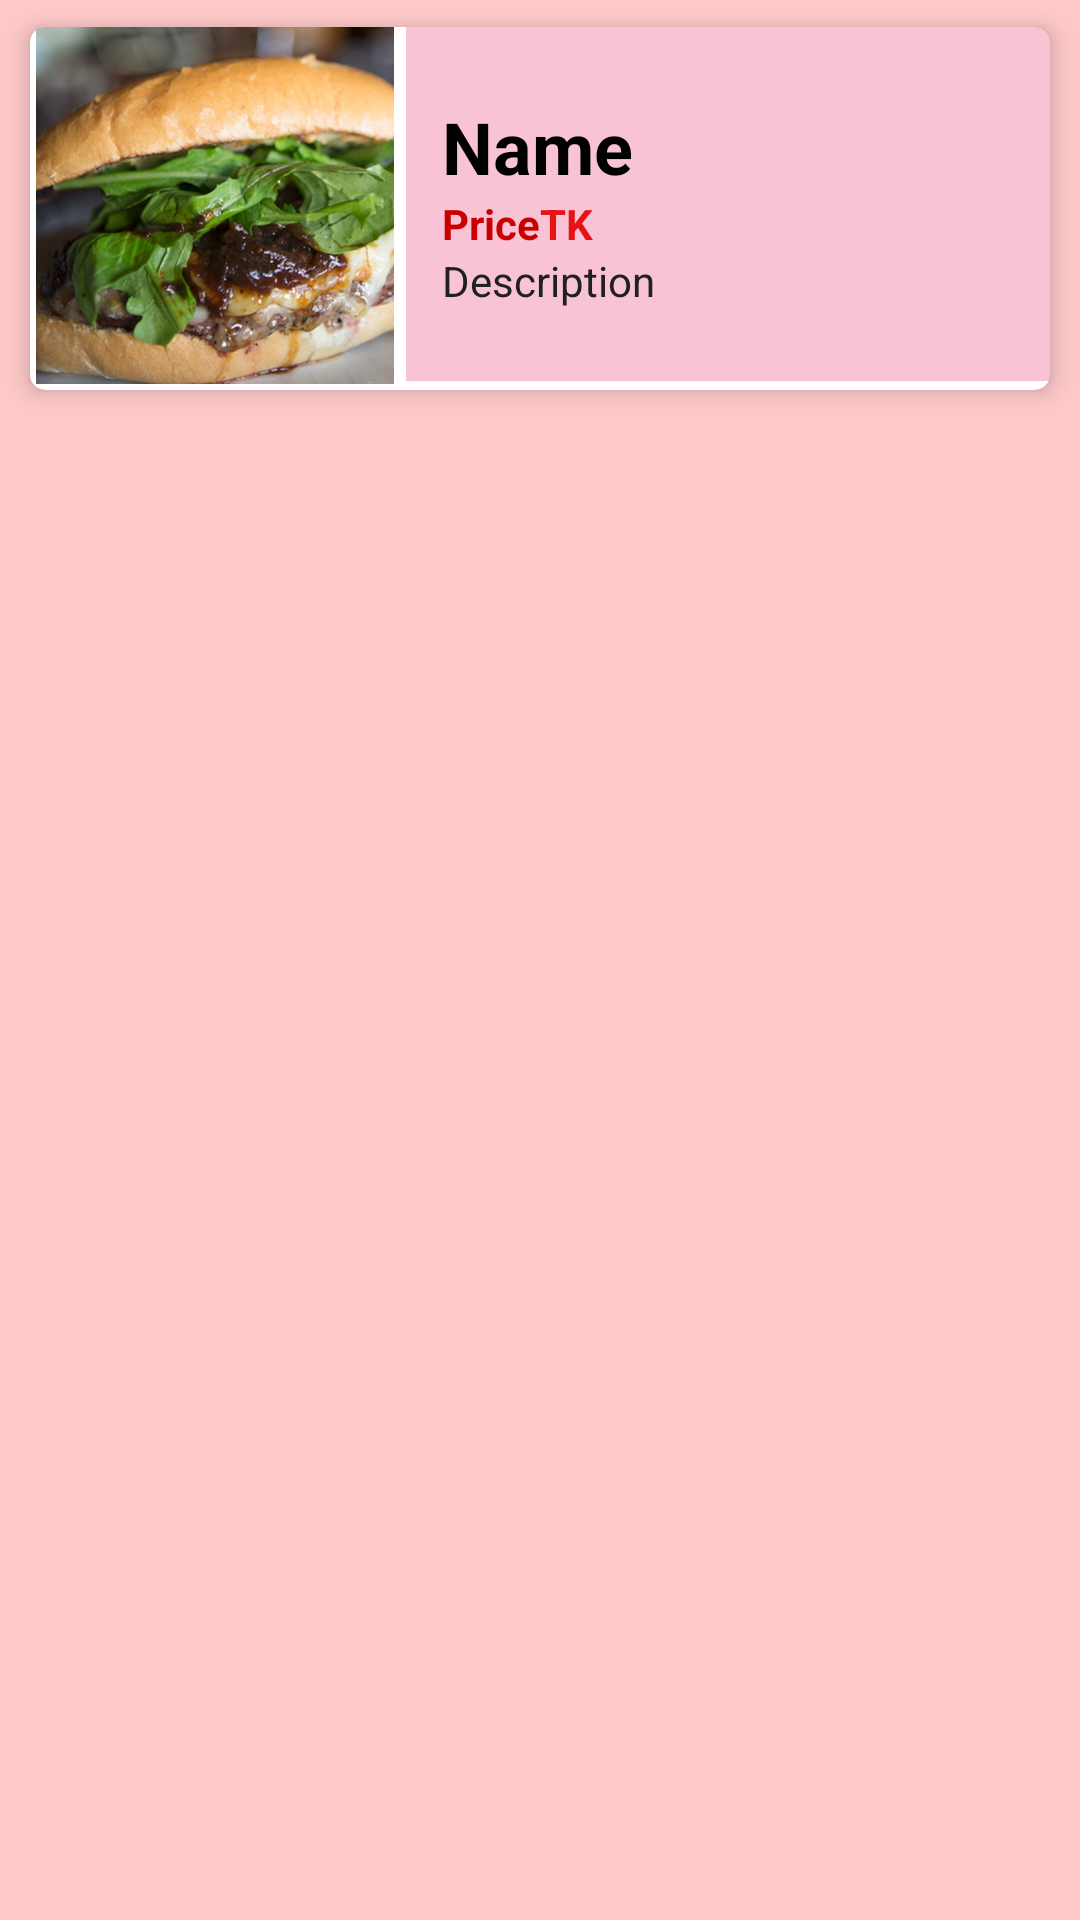

Locate icon controls on the screen. Image size 1080x1920, boxes as (x1, y1, x2, y2).
burger: (36, 27, 394, 384)
